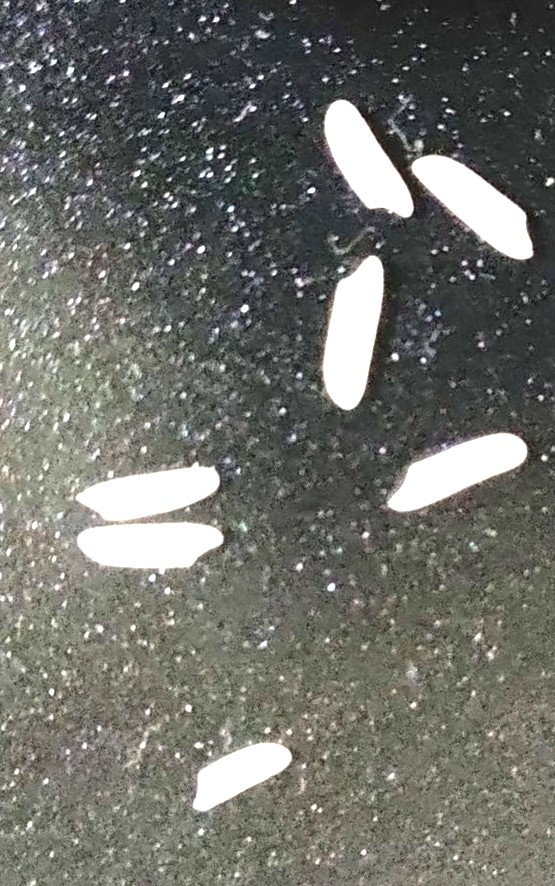broken_grain: (184, 733, 295, 823)
complete_grain: (407, 143, 540, 271), (317, 248, 391, 428), (382, 433, 532, 517), (322, 95, 418, 226), (67, 460, 236, 523), (72, 525, 232, 574)
